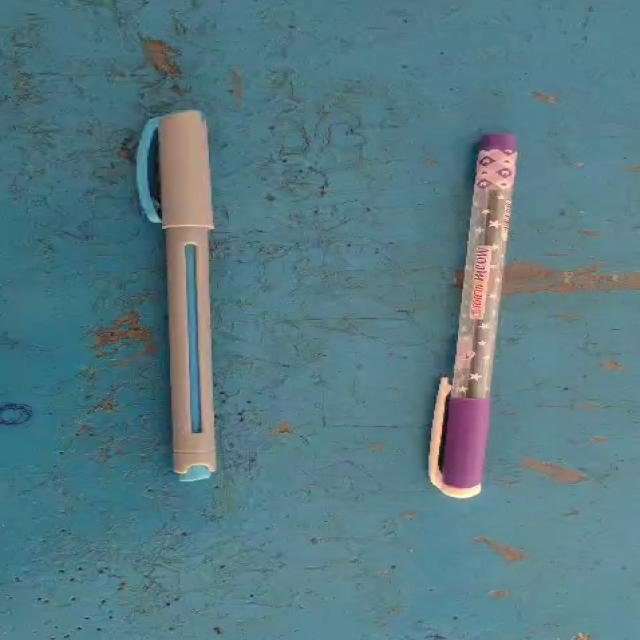pen: (63, 80, 300, 533), (384, 115, 571, 545)
